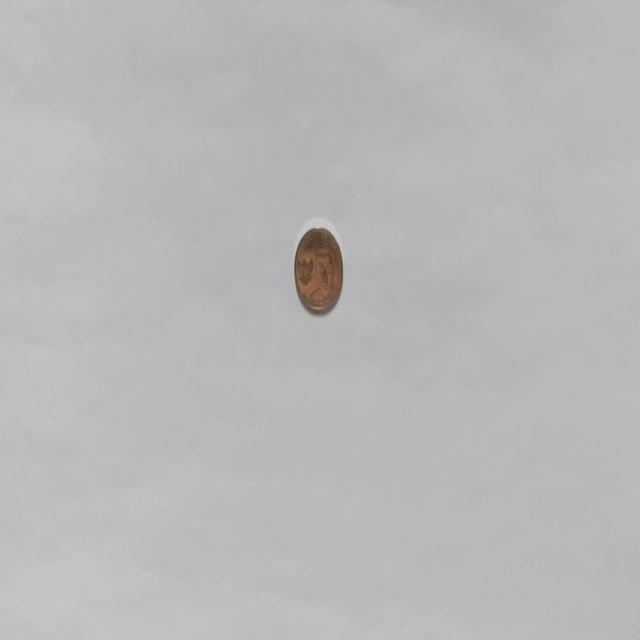seribu rupiah koin: (292, 221, 344, 315)
